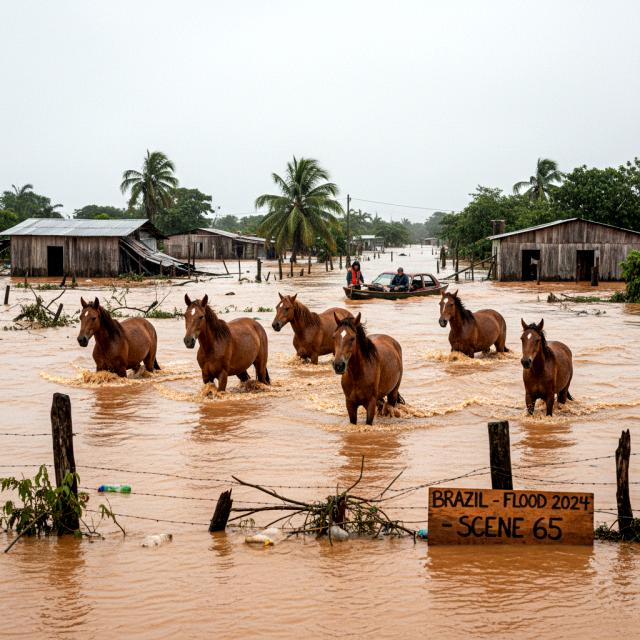civilian: (346, 259, 364, 288), (391, 266, 410, 290)
horse: (316, 316, 419, 432), (176, 289, 274, 403), (66, 291, 170, 383), (512, 313, 578, 428), (271, 294, 367, 362), (429, 286, 512, 361)
